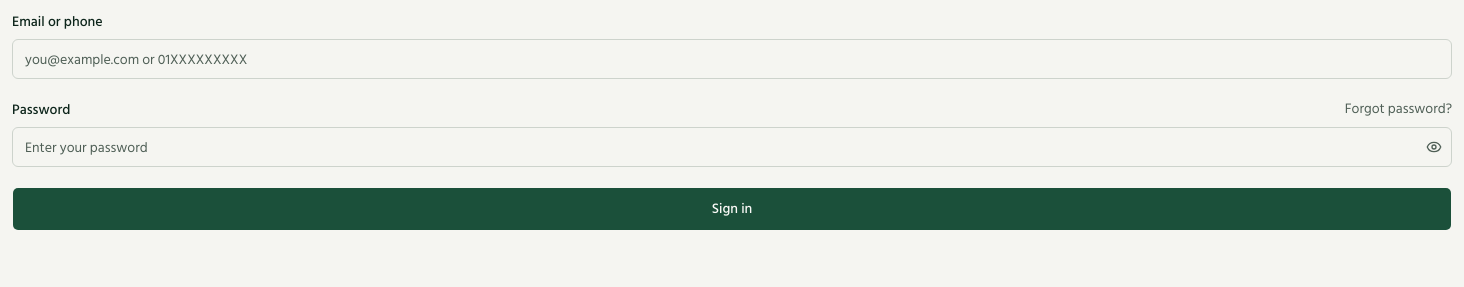
Test: LoginForm › shows the message for MEMBERSHIP_PENDING
In the field labelled "Email or phone": [732, 59] box [12, 39, 1452, 79], type "01712345678"
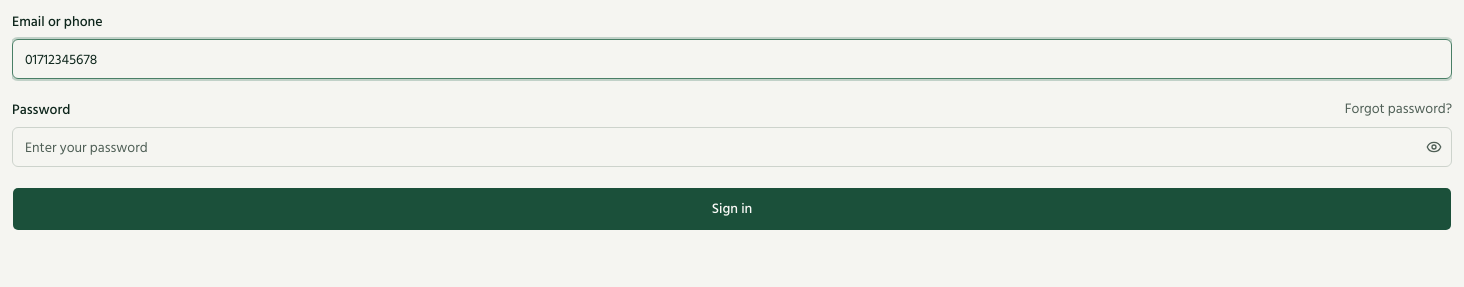
In the password field labelled "Password": [716, 147] box [13, 127, 1420, 167], type "secret"
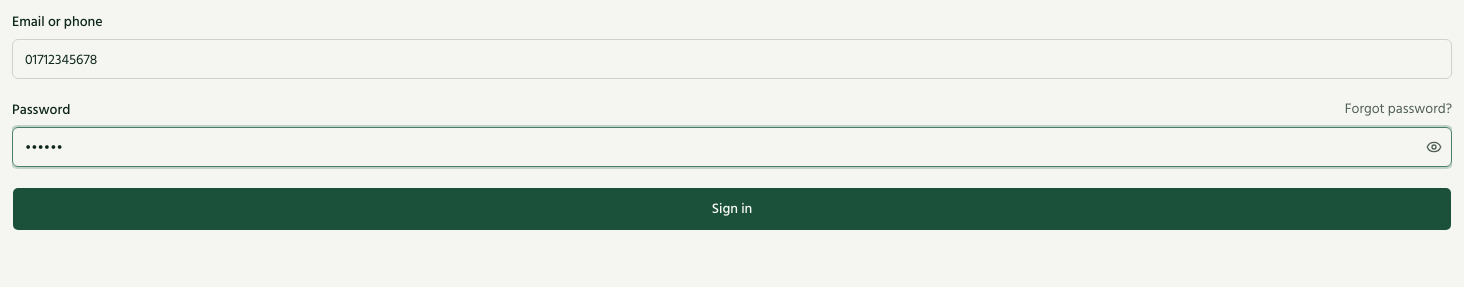
Click the button "Sign in": [732, 209] box [12, 187, 1452, 231]
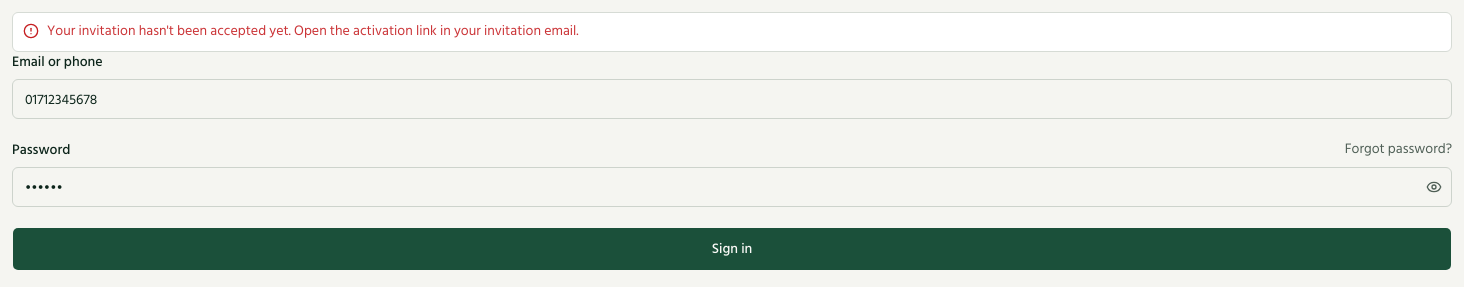
Now the message shows "Your invitation hasn't been accepted yet. Open the activation link in your invitation email.", box [47, 19, 579, 42]
